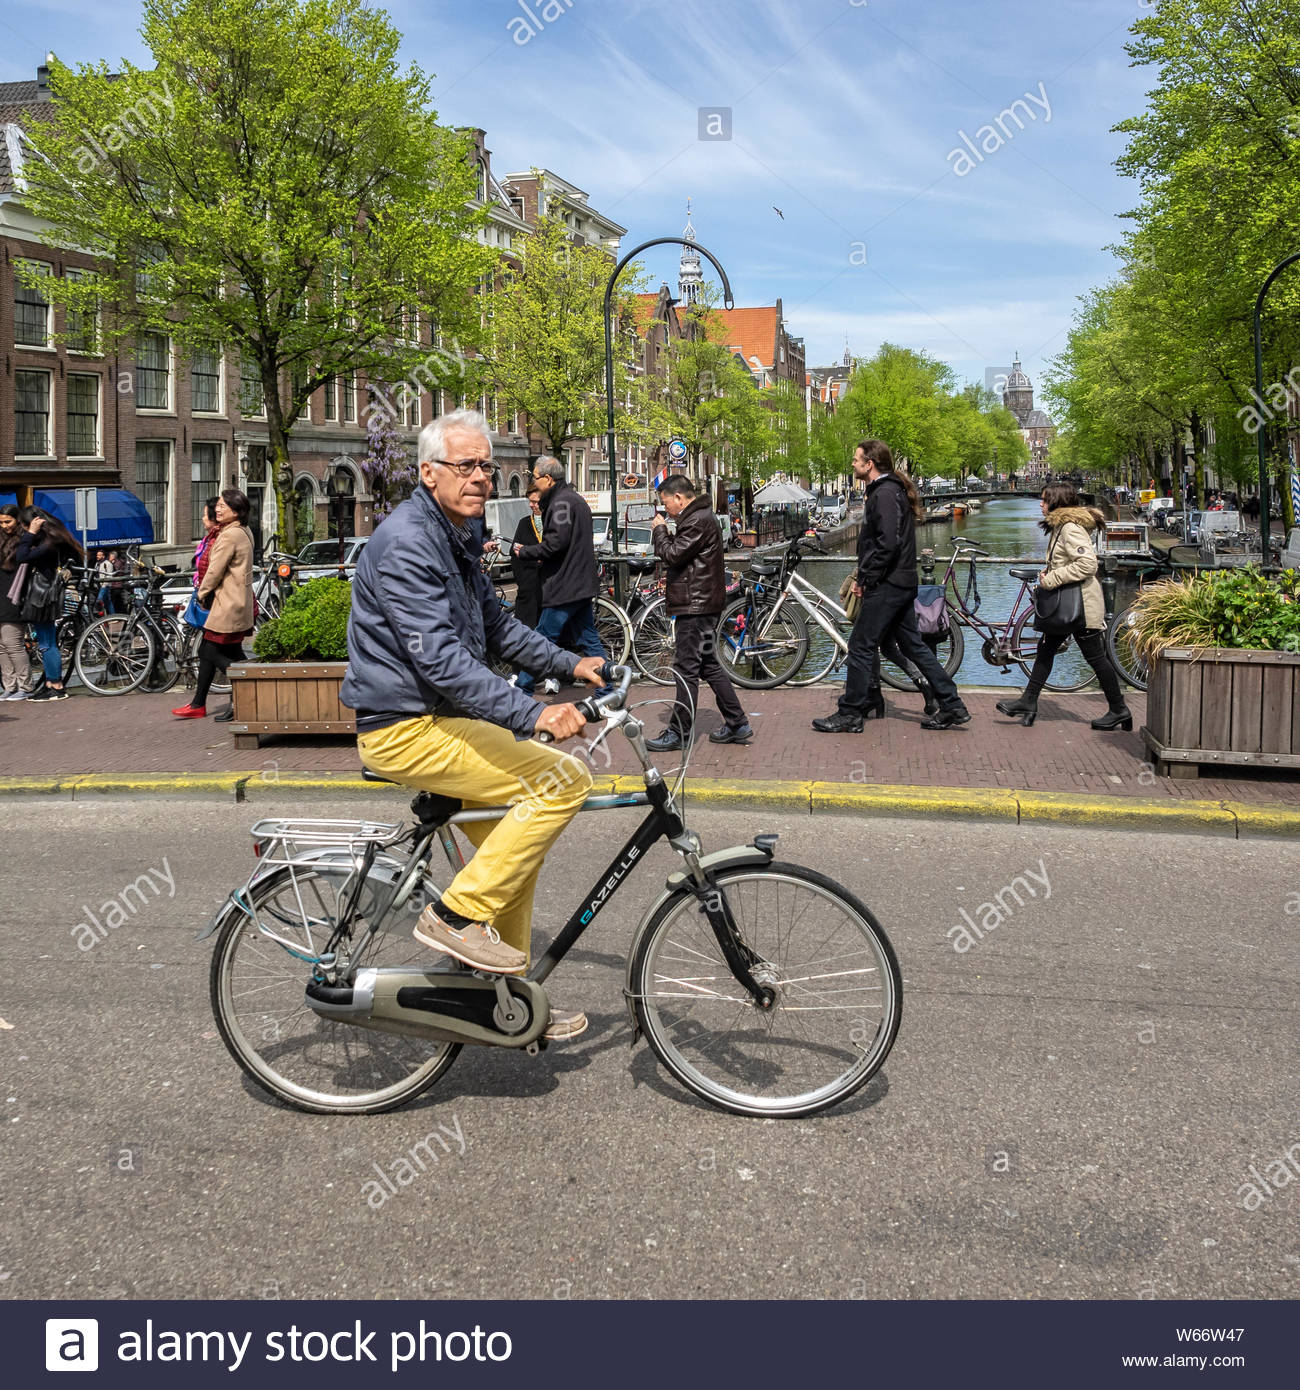commuter: (202, 408, 907, 1133)
